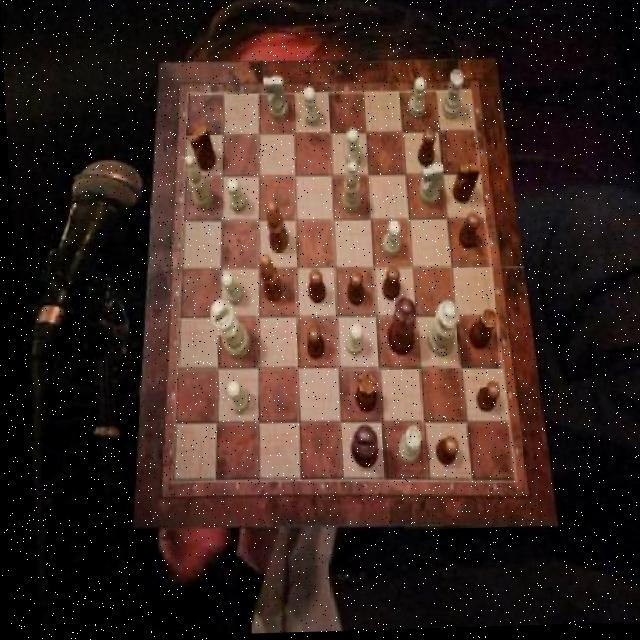bishop: (262, 201, 285, 254), (256, 255, 280, 305)
black-bishop: (345, 427, 373, 470)
black-king: (448, 166, 480, 207), (185, 126, 213, 172)
black-knight: (471, 384, 497, 416), (414, 132, 435, 171), (455, 217, 477, 252), (429, 441, 453, 469), (302, 327, 321, 362), (343, 274, 362, 309), (303, 271, 322, 306), (379, 270, 397, 304)
black-pawn: (382, 300, 415, 358)
black-queen: (463, 312, 495, 353), (348, 376, 372, 416)
black-rook: (183, 157, 210, 212), (336, 164, 358, 217)
white-bishop: (207, 301, 247, 361)
white-king: (416, 165, 443, 208), (262, 78, 287, 122)
white-knight: (406, 79, 427, 121), (221, 382, 245, 417), (217, 273, 240, 308), (378, 222, 398, 260), (225, 179, 246, 214), (302, 90, 320, 130), (342, 130, 359, 171), (341, 326, 360, 359)
white-pawn: (422, 302, 458, 360)
white-queen: (439, 72, 464, 122), (392, 428, 418, 466)
